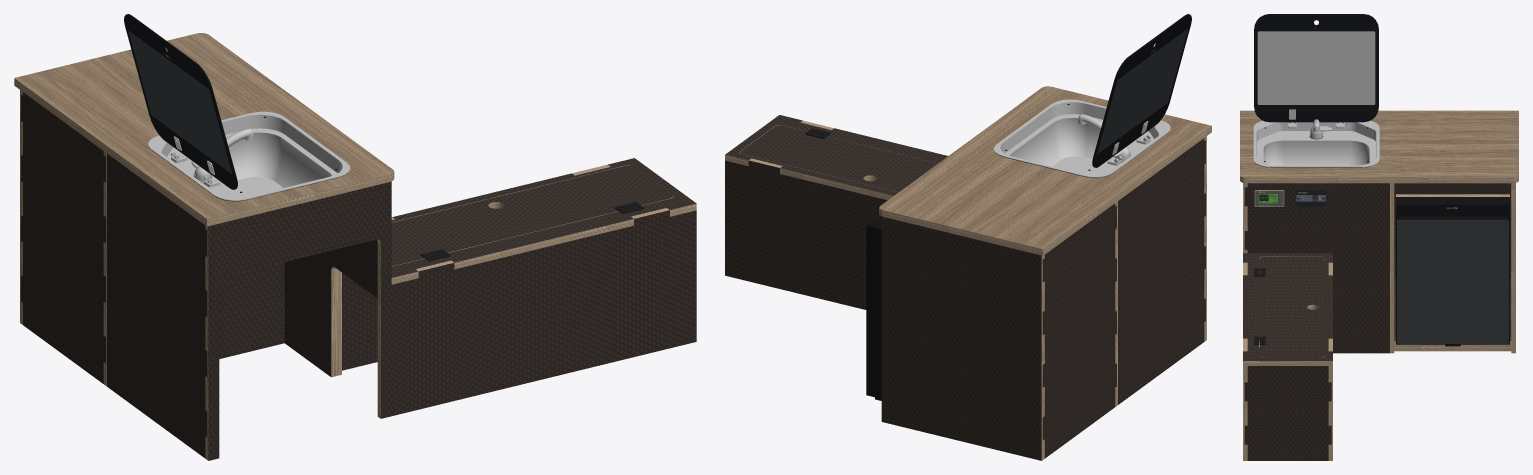
Rendered from front-module-hexa.glb.
The picture shows the model from 3 angles, left to right: view 1: azimuth 30°, elevation 25°; view 2: azimuth 150°, elevation 25°; view 3: azimuth 270°, elevation 25°; orthographic projection. The views are drawn at different scales.
Parts seen in each view (by area): view 1: Forward end panel -15mm with top tenons_1, Back panel - 15mm with tenons_0.001, ボディ61_0, Back panel - 15mm with tenons_0.002, Forward end panel -15mm with top tenons_1.001, ボディ56_1, Stainless basin with rear faucet ledge_0, Front panel - 15mm with tenons_1.001, Gray ceramic printed field approximation_0, Forward end panel -15mm with top tenons_1.002, ボディ57_1, Black safety glass_0 (+3 smaller); view 2: Rearward end panel -15mm with top tenons_1.001, ボディ61_0, Back panel - 15mm with tenons_0.001, Rearward end panel -15mm with top tenons_1, Back panel - 15mm with tenons_0.002, Stainless basin with rear faucet ledge_0, ボディ56_1, Gray ceramic printed field approximation_0, Door black surround with full-width recessed handle_0, ボディ57_1, Black safety glass_0, ボディ57_0 (+1 smaller); view 3: Front panel - 15mm with tenons_1.001, Dark gray frameless face_0, ボディ61_0, ボディ15 (1)_0, Front panel - 15mm with tenons_0, ボディ56_1, Stainless basin with rear faucet ledge_0, Black safety glass_0, ボディ57_1, Door black surround with full-width recessed handle_0, ボディ53_1, ボディ51_1 (+9 smaller).
Part boxes in pixels (x1,y1,x2,y2): Forward end panel -15mm with top tenons_1: (391,210,696,415); Back panel - 15mm with tenons_0.001: (107,154,207,458); ボディ61_0: (14,33,394,226); Back panel - 15mm with tenons_0.002: (21,92,105,383); Forward end panel -15mm with top tenons_1.001: (208,181,391,460); ボディ56_1: (391,165,672,265); Stainless basin with rear faucet ledge_0: (148,111,350,200); Front panel - 15mm with tenons_1.001: (284,240,377,376); Gray ceramic printed field approximation_0: (128,30,231,173); Forward end panel -15mm with top tenons_1.002: (219,262,284,358); ボディ57_1: (391,158,696,277); Black safety glass_0: (124,14,237,189); Rearward end panel -15mm with top tenons_1.001: (881,216,1041,460); ボディ61_0: (879,86,1211,255); Back panel - 15mm with tenons_0.001: (1118,138,1205,404); Rearward end panel -15mm with top tenons_1: (725,160,887,309); Back panel - 15mm with tenons_0.002: (1042,203,1116,458); Stainless basin with rear faucet ledge_0: (994,99,1170,177); ボディ56_1: (740,125,937,192); Gray ceramic printed field approximation_0: (1097,28,1187,153); Door black surround with full-width recessed handle_0: (866,215,881,398); ボディ57_1: (725,115,947,195); Black safety glass_0: (1092,14,1191,167); ボディ57_0: (725,125,937,200); Front panel - 15mm with tenons_1.001: (1244,183,1389,353); Dark gray frameless face_0: (1397,219,1508,343); ボディ61_0: (1240,110,1518,183); ボディ15 (1)_0: (1257,31,1375,104); Front panel - 15mm with tenons_0: (1244,366,1331,460); ボディ56_1: (1260,256,1324,357); Stainless basin with rear faucet ledge_0: (1253,121,1379,167); Black safety glass_0: (1254,14,1378,122); ボディ57_1: (1243,253,1332,360); Door black surround with full-width recessed handle_0: (1396,197,1509,344); ボディ53_1: (1394,183,1511,194); ボディ51_1: (1394,341,1511,351).
Bounding box in the file's own units: 1.37 × 1.02 × 0.93.
Materials: 30 (4 with a texture image).
